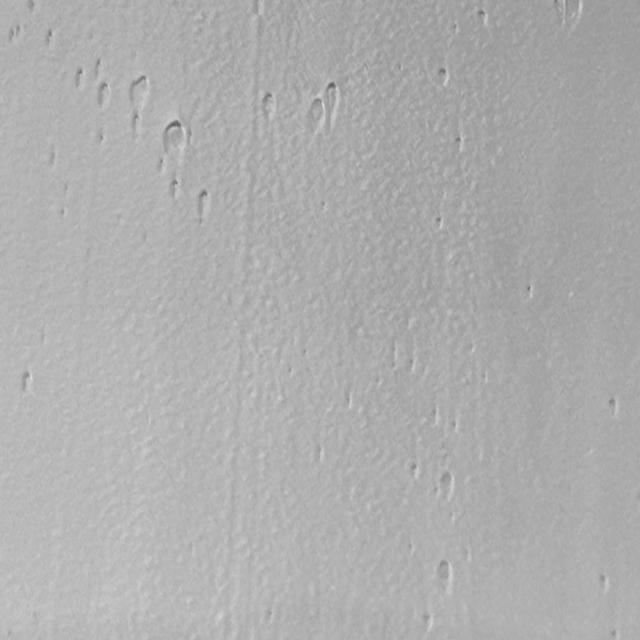pin holes: (160, 120, 190, 162), (550, 0, 584, 31), (128, 74, 152, 107), (433, 560, 456, 593), (309, 85, 325, 132), (436, 470, 458, 502), (260, 90, 280, 120), (15, 369, 37, 396), (196, 189, 213, 219), (323, 83, 338, 117), (603, 394, 622, 420), (418, 610, 437, 636), (594, 570, 613, 596), (96, 82, 112, 109), (474, 5, 492, 28), (436, 64, 452, 88), (45, 149, 61, 172), (168, 177, 182, 203), (407, 460, 423, 482), (132, 112, 141, 151), (9, 22, 26, 42), (44, 29, 57, 51), (452, 133, 465, 154), (522, 284, 535, 303), (76, 65, 87, 87), (96, 130, 108, 148), (26, 0, 39, 15), (434, 216, 446, 232), (344, 392, 354, 411), (95, 55, 102, 81), (608, 626, 622, 638), (58, 205, 68, 221), (316, 444, 323, 466), (452, 416, 460, 435), (431, 405, 438, 425)
